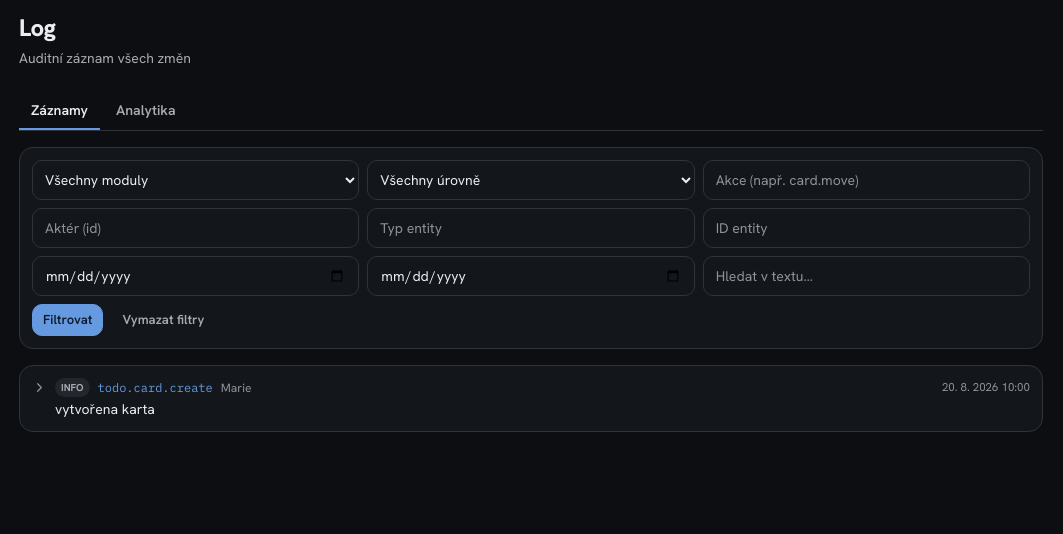
Test: LogPage › offers a retry when an event detail fails, never "no field changes"
Click the button "vytvořena karta": point(72, 388) [20, 366, 1042, 431]
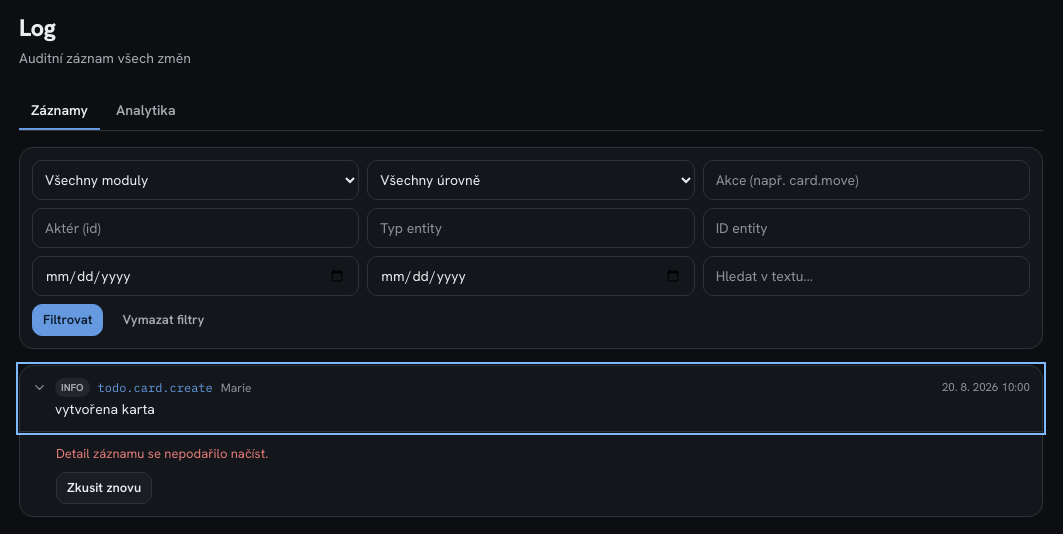
Now the button "Zkusit znovu" is shown, box [56, 472, 152, 504]
